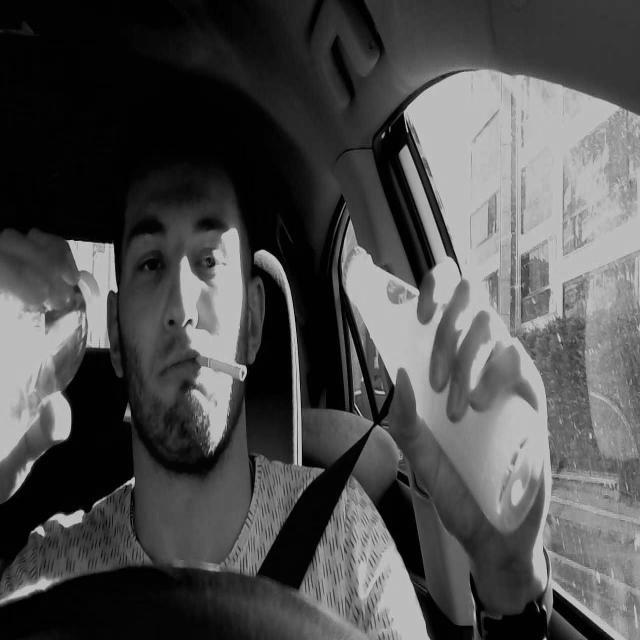Cigarette: (192, 354, 248, 380)
Drinking: (342, 243, 544, 532)
